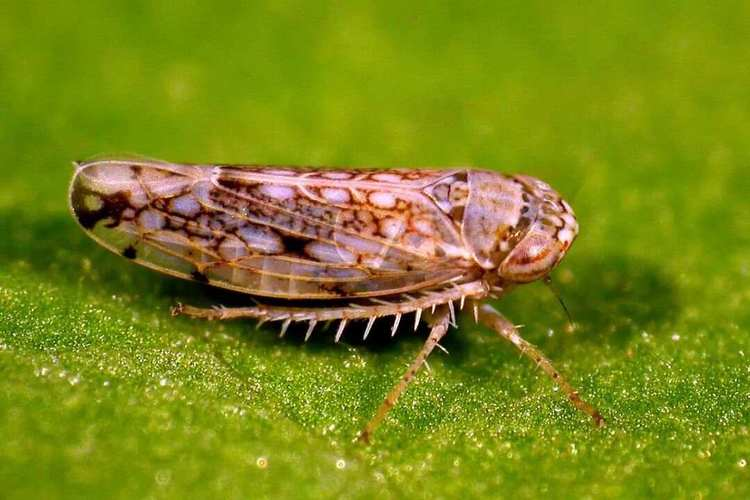Cicadellidae: (65, 150, 602, 434)
